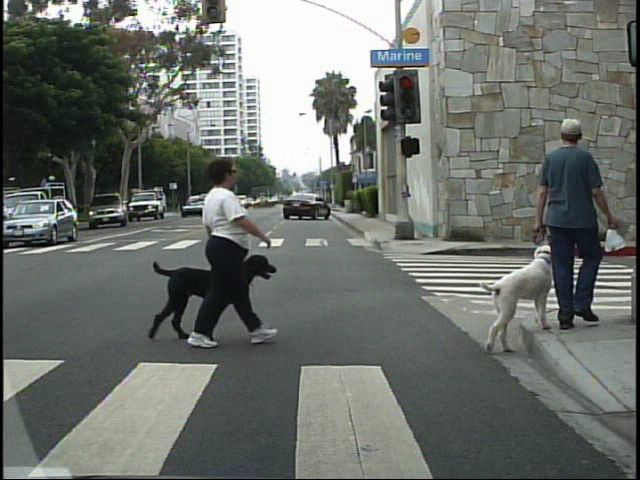person: (538, 112, 626, 344), (181, 145, 271, 349)
